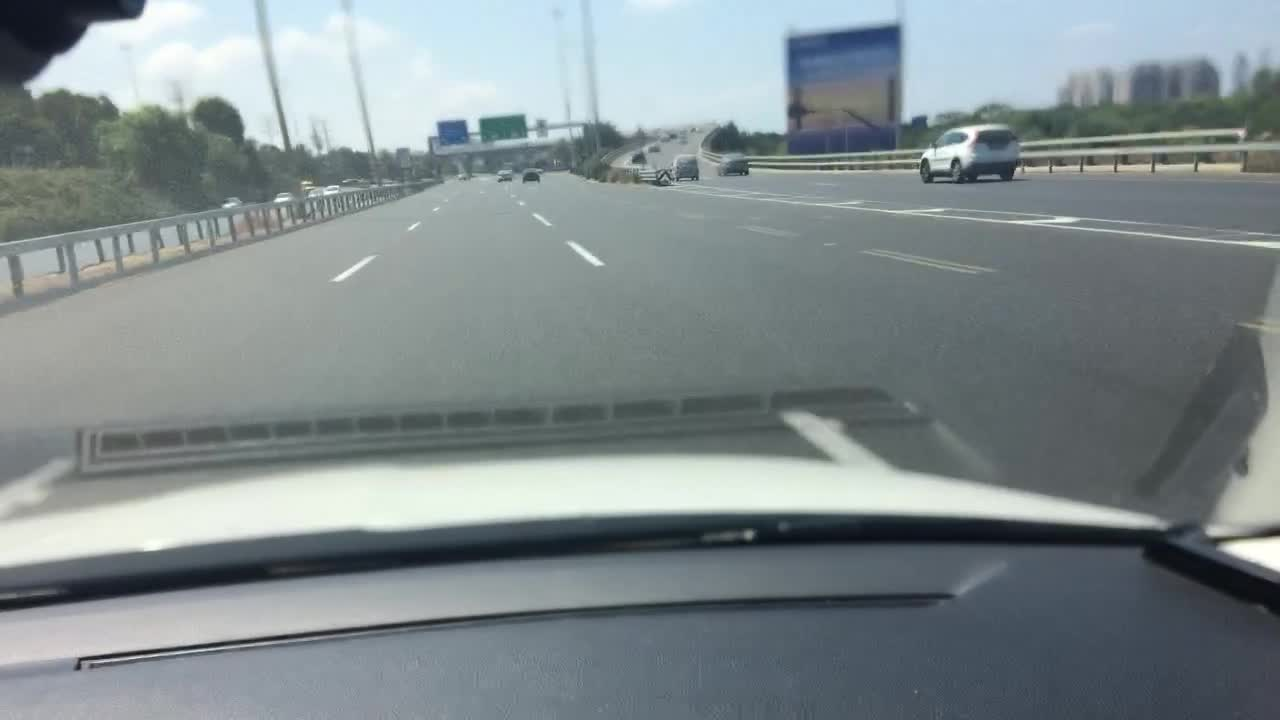car: (920, 124, 1019, 184), (670, 154, 700, 180), (718, 152, 748, 177), (220, 195, 243, 208), (522, 168, 540, 183), (456, 153, 471, 169), (324, 182, 342, 195), (495, 168, 511, 182), (272, 192, 294, 201), (632, 151, 647, 164), (646, 142, 660, 153), (306, 188, 323, 196), (304, 185, 317, 193), (659, 133, 671, 141), (668, 129, 677, 139), (677, 126, 688, 134), (301, 179, 312, 186), (679, 134, 688, 142)
traffic sign: (477, 112, 528, 143), (435, 117, 469, 145), (534, 117, 547, 137)
